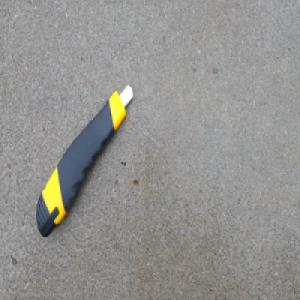Cutter: (36, 84, 133, 241)
